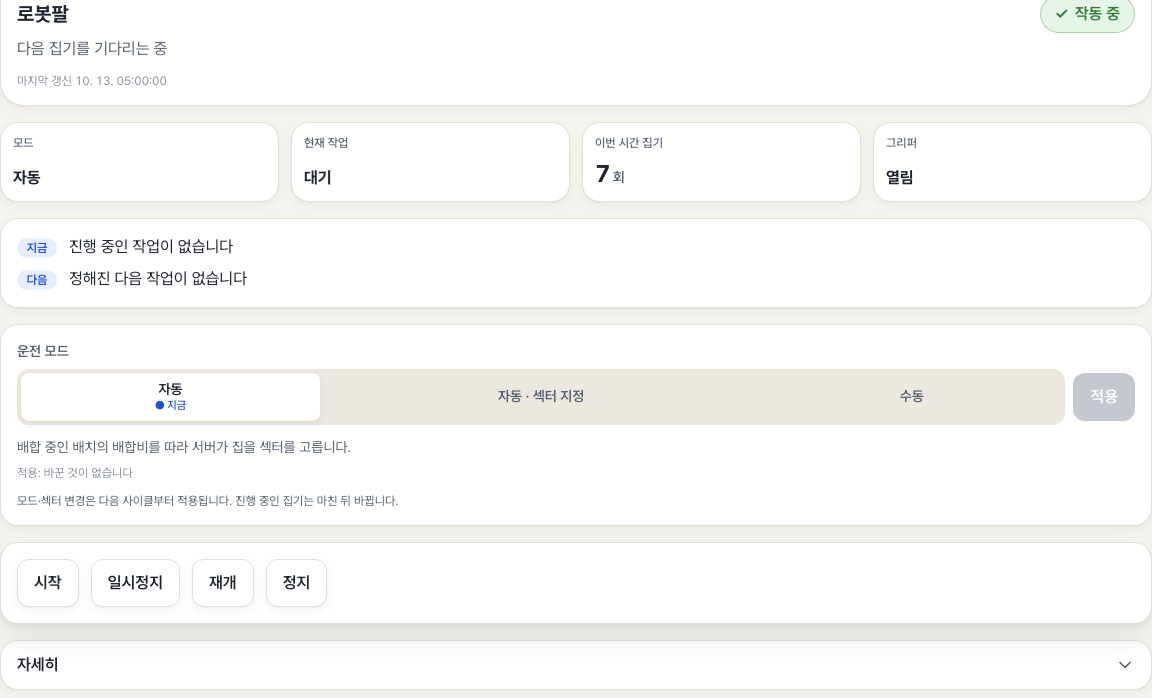
RobotPage › 진단: 관절 값을 모델의 순서·이름·범위대로 보여 준다 (받은 값을 그대로)
Click the button "자세히" at coordinates (38, 664), box [1,641,1151,689]
(page scrolled)
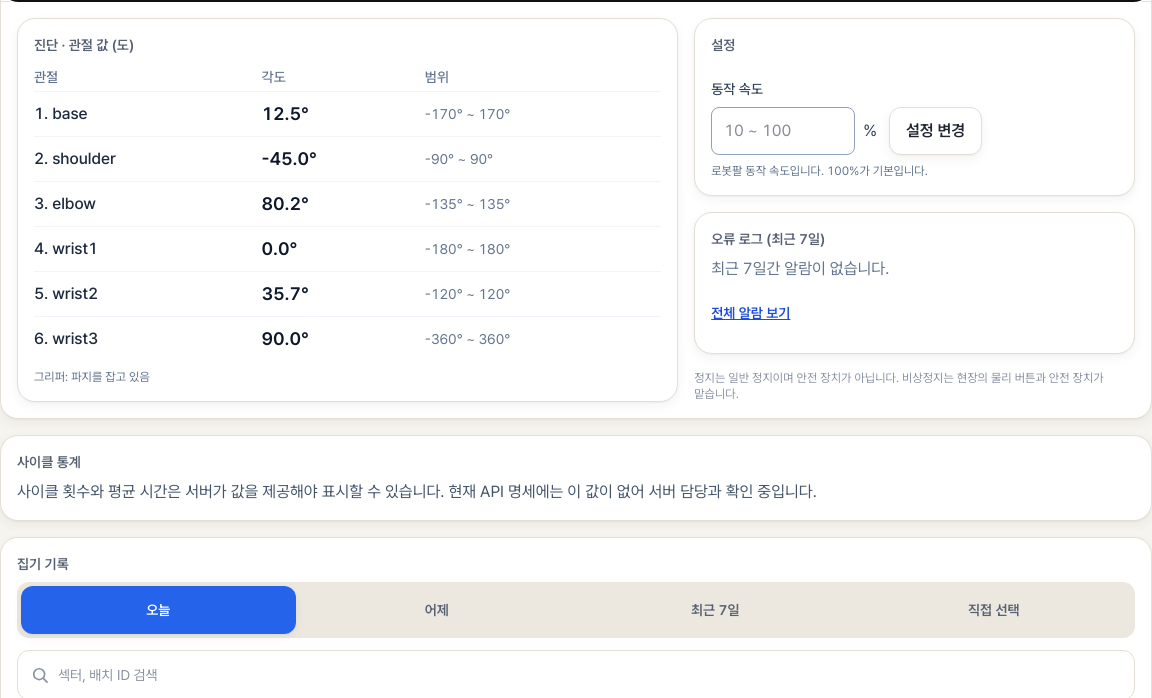
Result: the row "1. base 12.5° -170° ~ 170°" is shown at [34,92,661,136]
Result: the row "2. shoulder -45.0° -90° ~ 90°" is shown at [34,136,661,182]
Result: the row "6. wrist3 90.0° -360° ~ 360°" is shown at [34,316,661,361]
